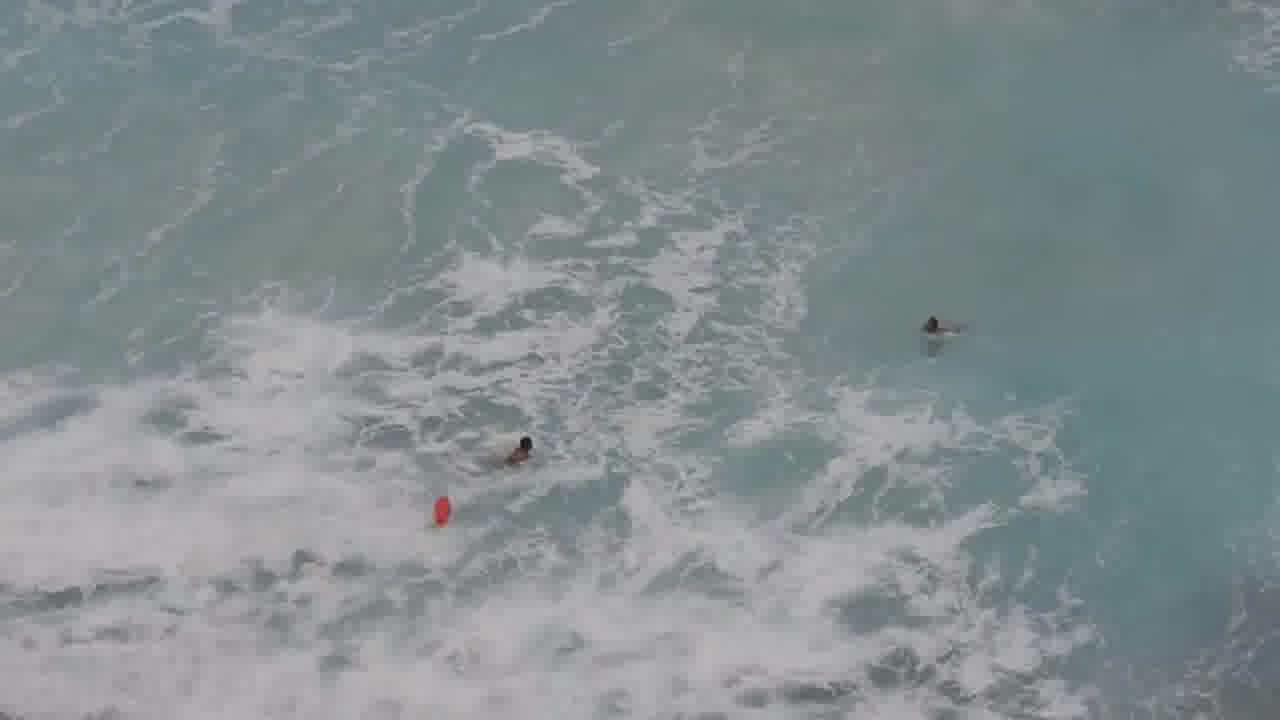human: (500, 428, 540, 467), (915, 308, 957, 345)
